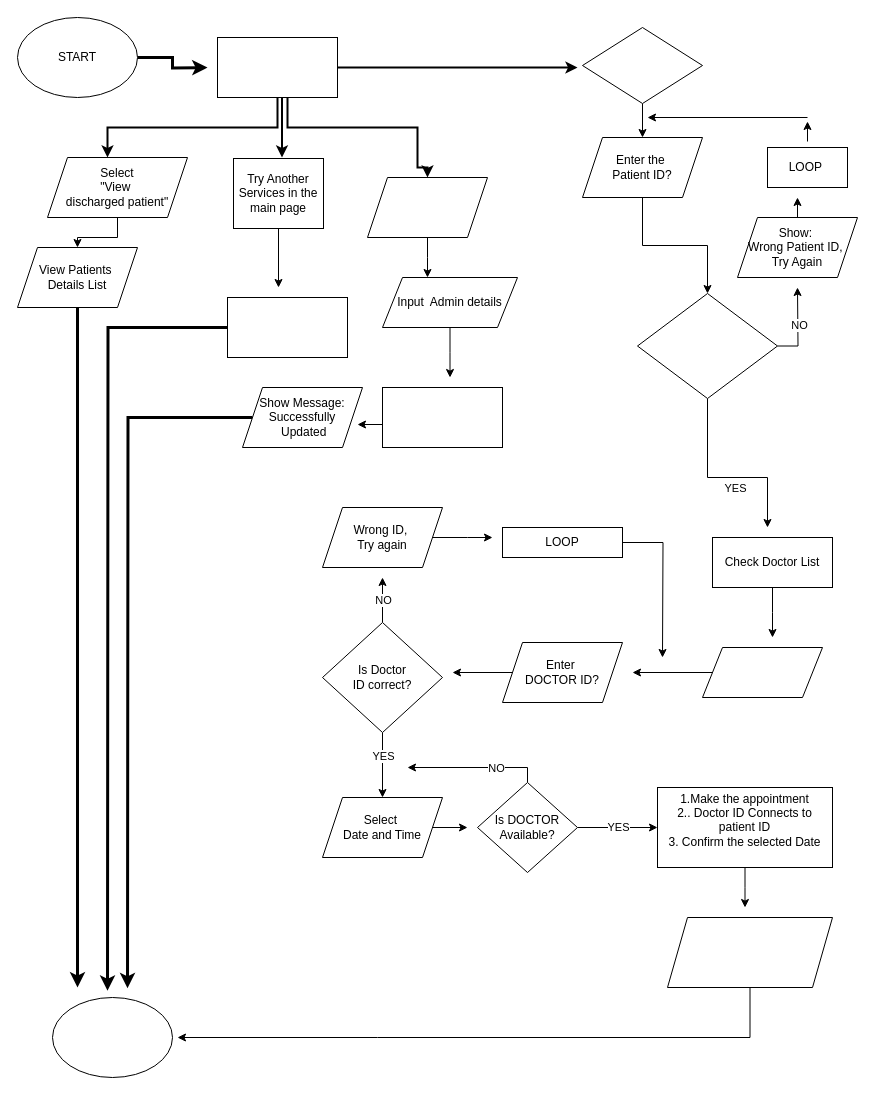
The diagram is 875 pixels wide and 1095 high, and some of its shapes have lost their labels. Each missing label, with the box of its shape:
Do the Process: (226, 296, 348, 358)
END: (52, 996, 172, 1078)
Is Patient ID is correct ?: (636, 292, 778, 398)
Print: Doctor List: (702, 646, 822, 698)
Select "Make Appointment": (582, 26, 702, 104)
Select "Update admin detais": (366, 176, 488, 238)
Show all Content List on the Main Page: (216, 36, 338, 98)
Show Message: Successfully you have Made the appointment: (666, 916, 832, 988)
UPDATE the data: (382, 386, 502, 448)
